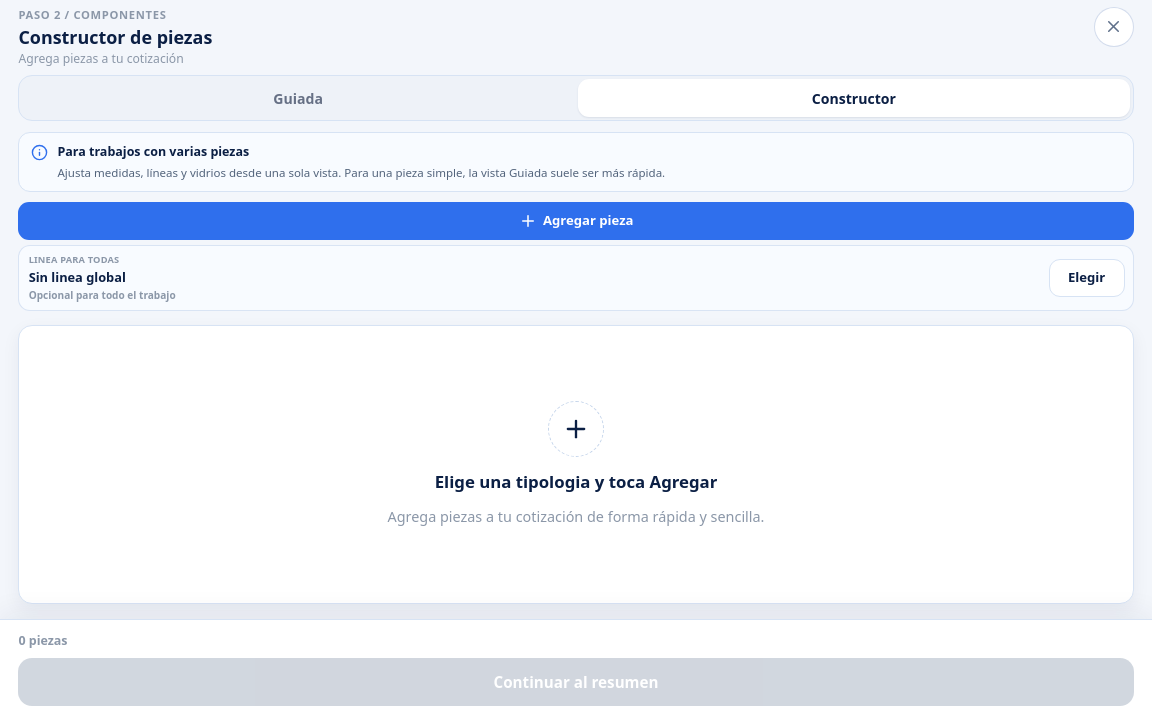
Test case: PasoDosCuadernoMovil › no ofrece puerta corredera como preset redundante en movil
Click the button "Agregar pieza". click: coordinates (576, 220)
box: [18,202,1134,240]
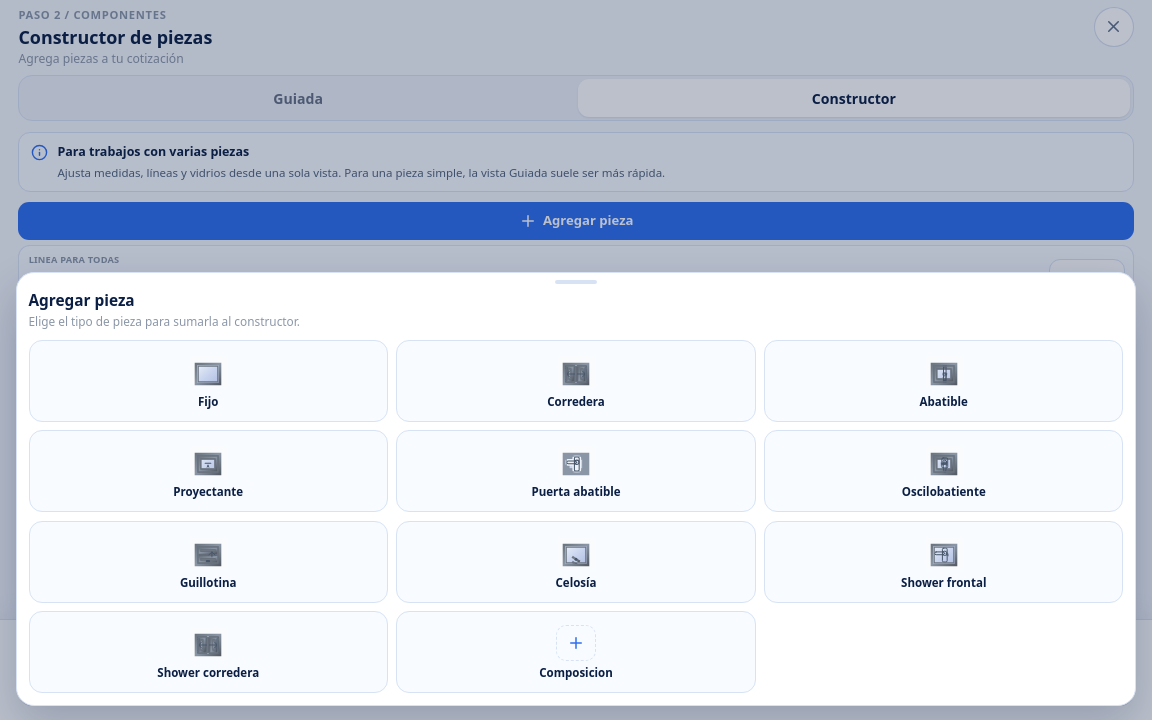
Now the button "Puerta abatible" is shown, box [396,430,756,512]
